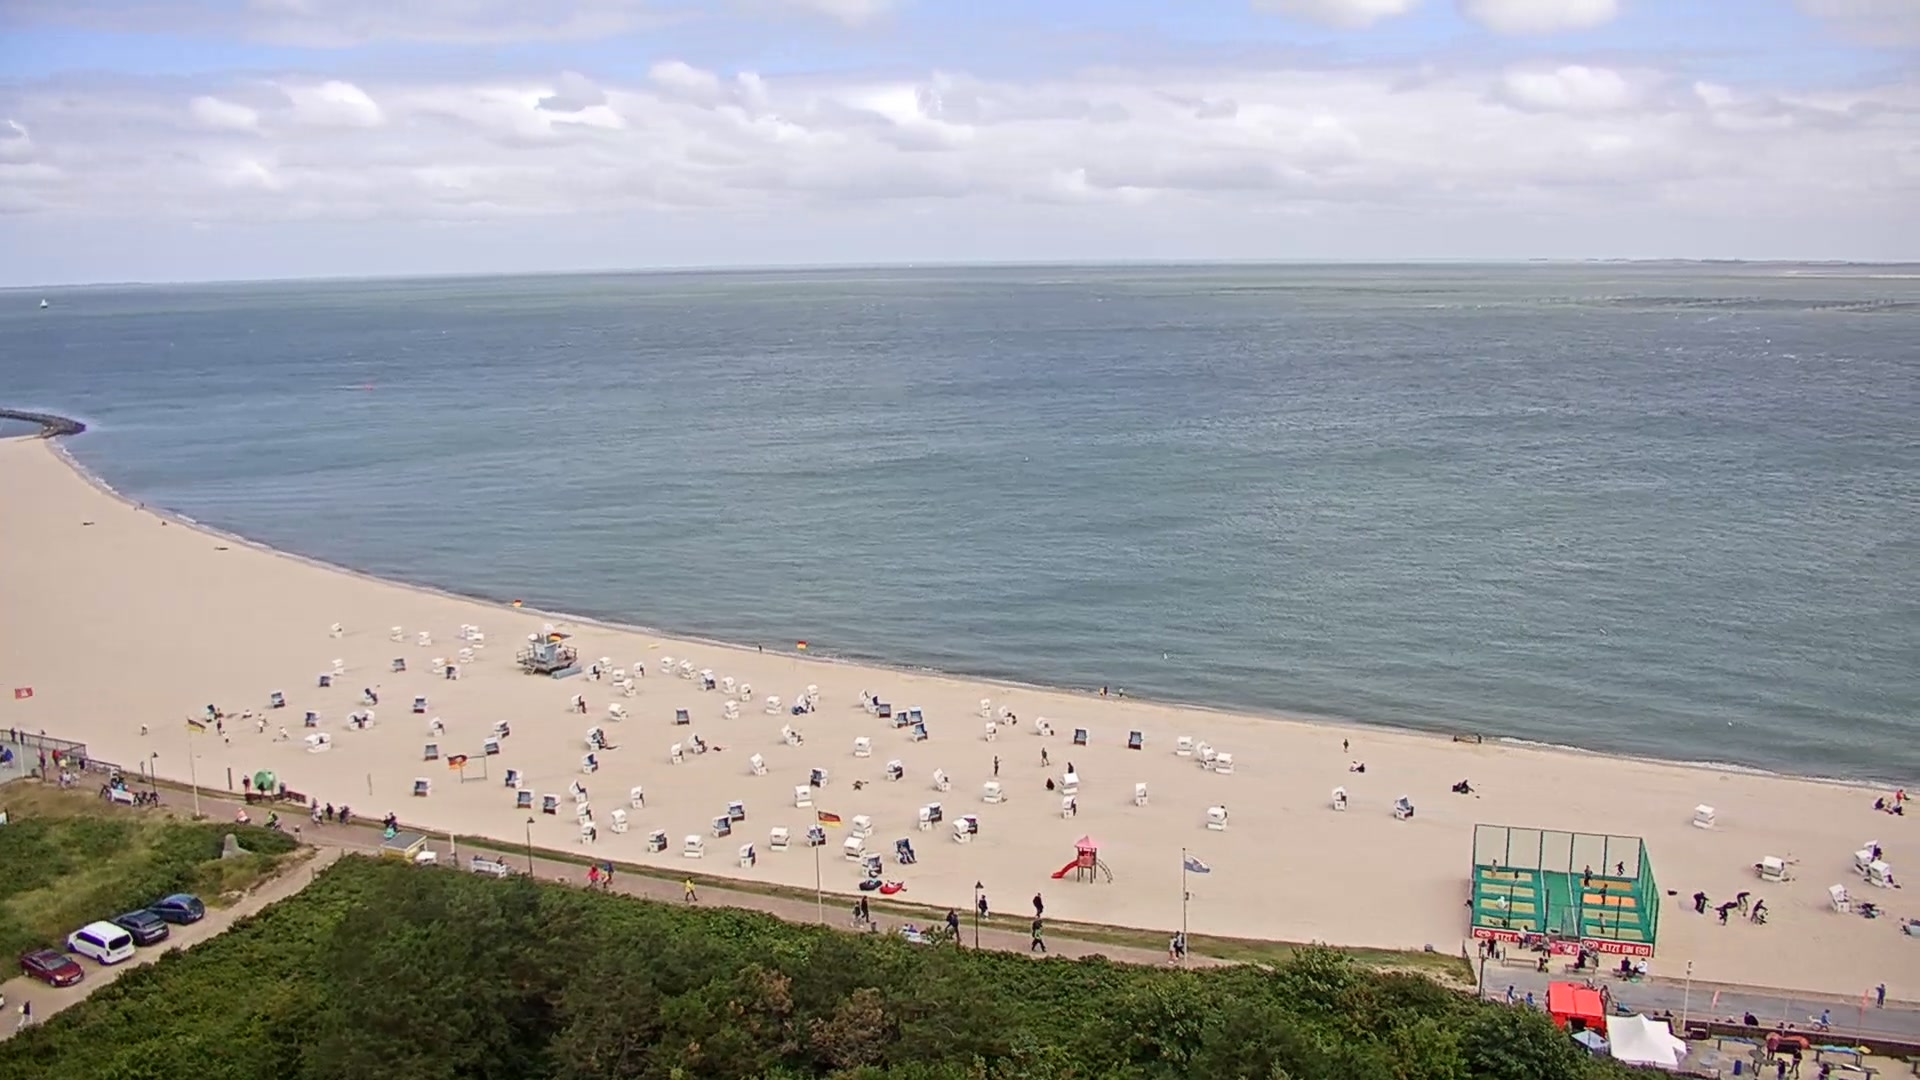human: (15, 999, 33, 1031), (1030, 918, 1047, 951), (1787, 1046, 1803, 1079), (948, 912, 962, 946), (1598, 984, 1612, 1019), (1750, 898, 1769, 922), (945, 908, 957, 941), (898, 843, 916, 864), (683, 875, 698, 902), (1172, 929, 1185, 958), (1765, 1030, 1777, 1059), (849, 898, 863, 926), (1629, 956, 1647, 976), (586, 863, 600, 887), (1572, 945, 1589, 967), (1166, 932, 1177, 963), (1033, 891, 1045, 918), (1736, 891, 1751, 911), (861, 894, 871, 923), (1516, 923, 1528, 948), (1, 745, 14, 768), (1694, 890, 1708, 912), (235, 806, 250, 824), (1820, 1007, 1832, 1031), (979, 893, 989, 919), (37, 744, 47, 768), (1542, 933, 1552, 958), (1618, 955, 1631, 973), (1875, 981, 1885, 1007), (1817, 1062, 1830, 1080), (1597, 910, 1607, 932), (1486, 935, 1497, 958), (1505, 983, 1516, 1002), (1598, 880, 1607, 905), (1582, 863, 1592, 887), (1542, 987, 1551, 1012), (266, 810, 278, 828), (1894, 788, 1905, 807), (1494, 894, 1508, 909), (1744, 1010, 1759, 1024), (313, 803, 323, 823), (1534, 957, 1549, 971), (1776, 1056, 1786, 1079), (257, 711, 267, 732), (1041, 745, 1050, 766), (1590, 948, 1600, 969), (1478, 938, 1487, 959), (1460, 778, 1473, 793), (118, 775, 129, 791), (340, 804, 350, 824), (1490, 857, 1499, 877), (277, 724, 287, 741), (110, 771, 120, 788), (1614, 859, 1624, 876), (606, 861, 614, 883), (601, 866, 609, 888), (993, 754, 1001, 776), (242, 773, 251, 793), (51, 747, 59, 766), (326, 801, 334, 820), (1873, 795, 1885, 809), (1719, 905, 1728, 925), (57, 769, 66, 785), (388, 810, 397, 826), (63, 768, 71, 785), (72, 769, 81, 786), (10, 726, 18, 742), (309, 794, 317, 809), (222, 729, 229, 744), (382, 812, 390, 827), (216, 718, 223, 735), (78, 756, 85, 773), (1451, 780, 1461, 791), (1785, 1022, 1796, 1032), (1348, 759, 1357, 771), (1651, 1009, 1660, 1020), (390, 816, 397, 832), (1526, 990, 1534, 1003), (909, 922, 918, 932), (1356, 761, 1365, 771), (1342, 737, 1349, 752), (495, 854, 503, 866), (901, 922, 909, 933), (1066, 760, 1074, 772), (1451, 732, 1458, 742), (1476, 733, 1483, 744), (140, 722, 147, 734), (20, 729, 25, 744), (1, 992, 5, 1010), (1776, 1020, 1785, 1029), (1664, 1008, 1674, 1016), (1118, 685, 1124, 697), (1103, 685, 1108, 696), (472, 853, 479, 862), (758, 644, 763, 654), (1099, 686, 1104, 696), (140, 500, 146, 508), (478, 853, 483, 861)
land: (63, 919, 135, 965), (19, 947, 84, 987), (106, 907, 170, 946), (143, 892, 204, 926)
sea: (39, 297, 48, 308)
